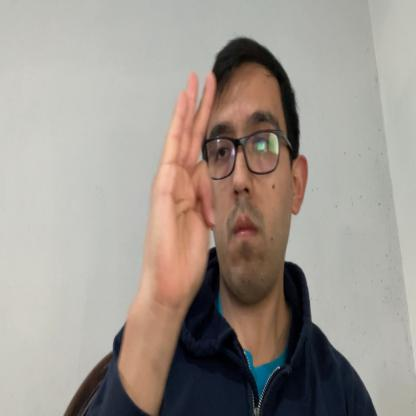F: (147, 71, 217, 314)
